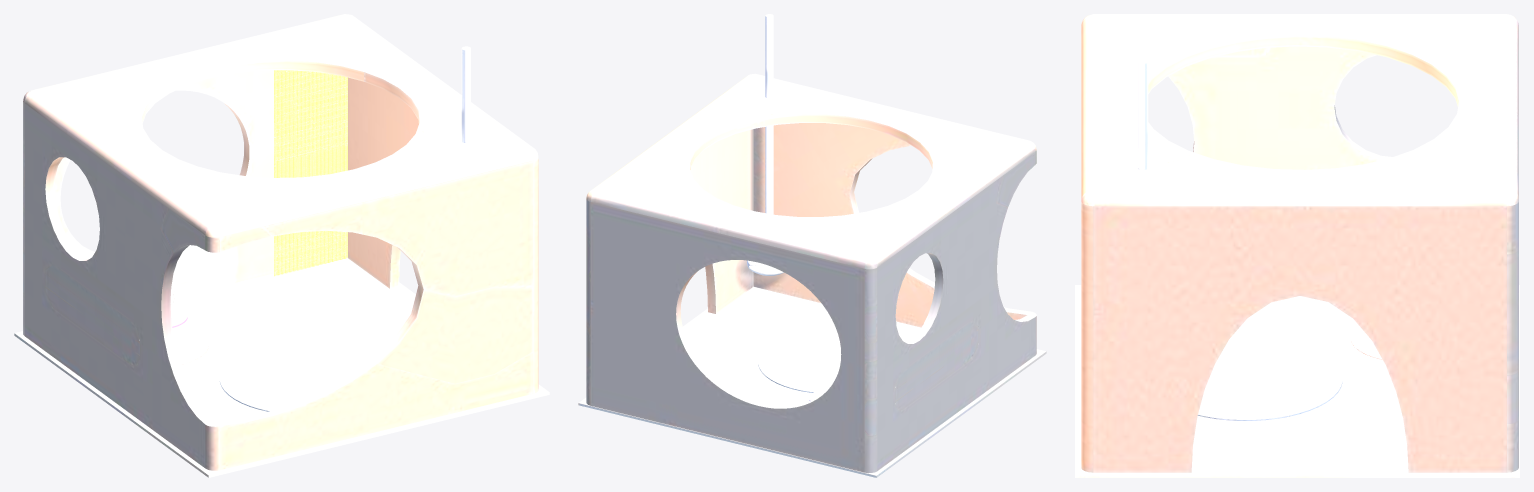
The model's file is private_lobby-draco.glb.
3 views of the same model, side by side, from view 1: azimuth 30°, elevation 25°; view 2: azimuth 150°, elevation 25°; view 3: azimuth 270°, elevation 25° (orthographic). The views are drawn at different scales.
Visible parts, largest first — view 1: Object_22, Object_21, Object_20, Object_8, Object_9, stove; view 2: Object_22, Object_21, Object_8, stove; view 3: Object_22, Object_21, Object_8, stove, Object_9.
Part boxes in pixels (<box>): Object_22: <box>23,14,538,470</box>; Object_21: <box>14,258,549,477</box>; Object_20: <box>274,70,347,276</box>; Object_8: <box>219,342,373,411</box>; Object_9: <box>172,326,208,364</box>; stove: <box>461,46,470,142</box>; Object_22: <box>586,73,1036,473</box>; Object_21: <box>578,286,1046,477</box>; Object_8: <box>758,330,841,392</box>; stove: <box>747,14,783,275</box>; Object_22: <box>1081,14,1518,472</box>; Object_21: <box>1075,285,1519,477</box>; Object_8: <box>1197,338,1342,420</box>; stove: <box>1137,59,1148,169</box>; Object_9: <box>1350,325,1382,359</box>.
Size of the model in its own units: 747 by 707 by 738.
